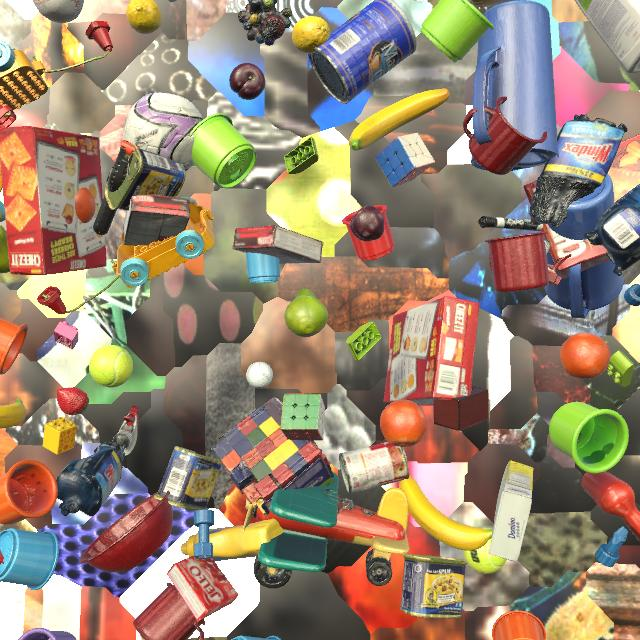ycb_002_master_chef_can: (308, 0, 417, 104)
ycb_003_cracker_box: (524, 134, 640, 279), (0, 126, 106, 275), (383, 296, 480, 406)
ycb_004_sugar_box: (489, 461, 534, 561)
ycb_005_tomato_soup_can: (339, 442, 409, 493)
ycb_006_mustard_bottle: (181, 519, 283, 562), (471, 0, 514, 8)
ycb_008_pudding_box: (233, 225, 323, 264), (123, 194, 190, 246)
ycb_009_gelatin_box: (167, 555, 238, 622)
ycb_010_potted_meat_can: (105, 144, 186, 211), (154, 446, 222, 511), (401, 554, 467, 618)
ycb_011_banana: (399, 474, 493, 550), (349, 89, 450, 151), (0, 399, 27, 428)
ycb_012_strawberry: (57, 387, 89, 415)
ycb_014_lemon: (292, 16, 331, 53), (126, 0, 162, 34)
ycb_016_pear: (285, 288, 328, 337), (0, 225, 10, 273)
ycb_017_orange: (560, 333, 611, 379), (380, 399, 427, 447), (75, 187, 96, 223)
ycb_018_plum: (229, 63, 266, 100), (350, 205, 385, 241)
